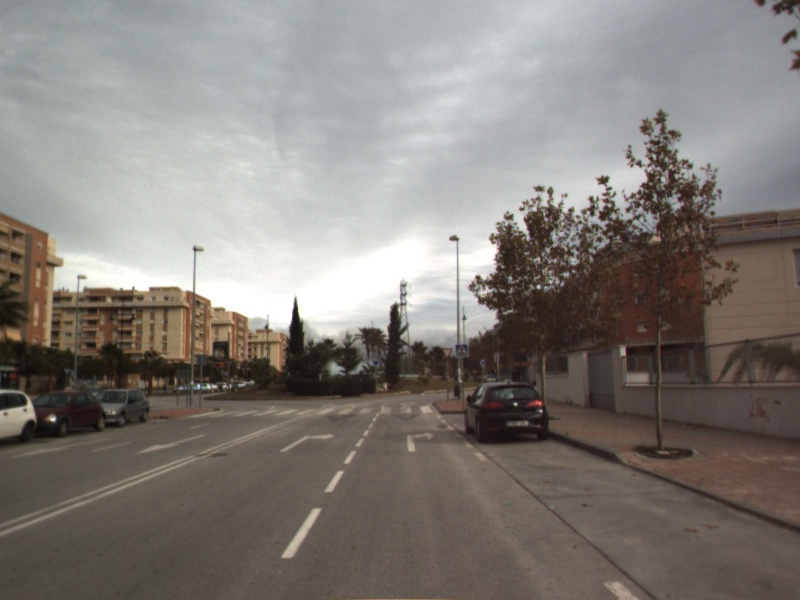RIGHT: (278, 431, 337, 454), (404, 428, 437, 454)
